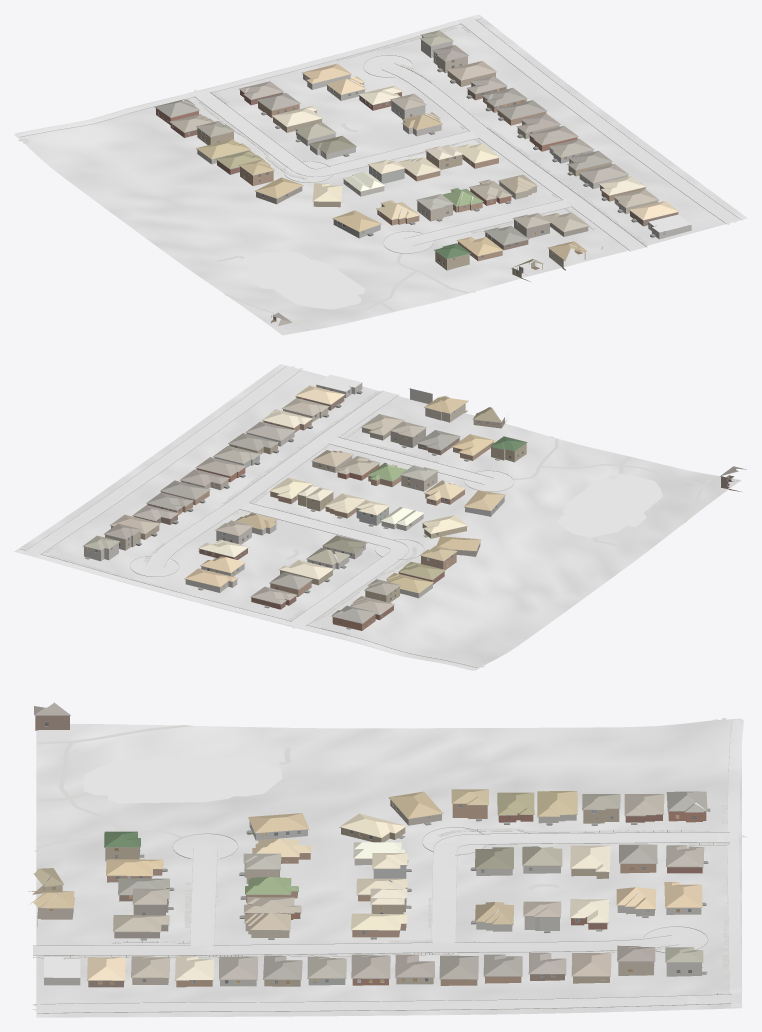
The picture shows the model from 3 angles, top to bottom: view 1: azimuth 30°, elevation 25°; view 2: azimuth 150°, elevation 25°; view 3: azimuth 270°, elevation 25°; orthographic projection. The views are drawn at different scales.
Visible parts, largest first — view 1: ground, roof, concrete, wall, water, asphalt, curb, detail, walk, wall_stucco, wall_stone; view 2: ground, roof, concrete, wall, water, asphalt, detail, curb, walk, wall_stucco, wall_stone; view 3: ground, roof, concrete, wall, water, asphalt, curb, walk, detail, wall_stucco, wall_stone, mark_w.
Boxes of the visible parts, <box> form: ground: <box>14,14,747,335</box>; roof: <box>155,30,691,325</box>; concrete: <box>15,15,645,253</box>; wall: <box>156,52,678,281</box>; water: <box>247,252,365,309</box>; asphalt: <box>457,16,738,225</box>; curb: <box>19,18,741,253</box>; detail: <box>155,35,679,328</box>; walk: <box>18,26,647,330</box>; wall_stucco: <box>197,83,658,270</box>; wall_stone: <box>296,36,691,239</box>; ground: <box>14,364,741,670</box>; roof: <box>83,374,746,623</box>; concrete: <box>16,391,513,670</box>; wall: <box>105,396,741,630</box>; water: <box>557,474,662,537</box>; asphalt: <box>22,366,302,557</box>; detail: <box>83,387,737,629</box>; curb: <box>20,366,513,667</box>; walk: <box>44,391,715,667</box>; wall_stucco: <box>201,388,504,598</box>; wall_stone: <box>84,383,365,592</box>; ground: <box>36,718,741,1017</box>; roof: <box>28,702,707,980</box>; concrete: <box>33,719,747,1007</box>; wall: <box>32,715,706,987</box>; water: <box>83,753,282,803</box>; asphalt: <box>31,994,741,1012</box>; curb: <box>33,719,732,1013</box>; walk: <box>34,718,729,994</box>; detail: <box>34,715,710,984</box>; wall_stucco: <box>37,815,654,985</box>; wall_stone: <box>44,866,701,986</box>; mark_w: <box>40,832,742,1008</box>.
Size of the model in its own units: 259 by 14.16 by 260.
